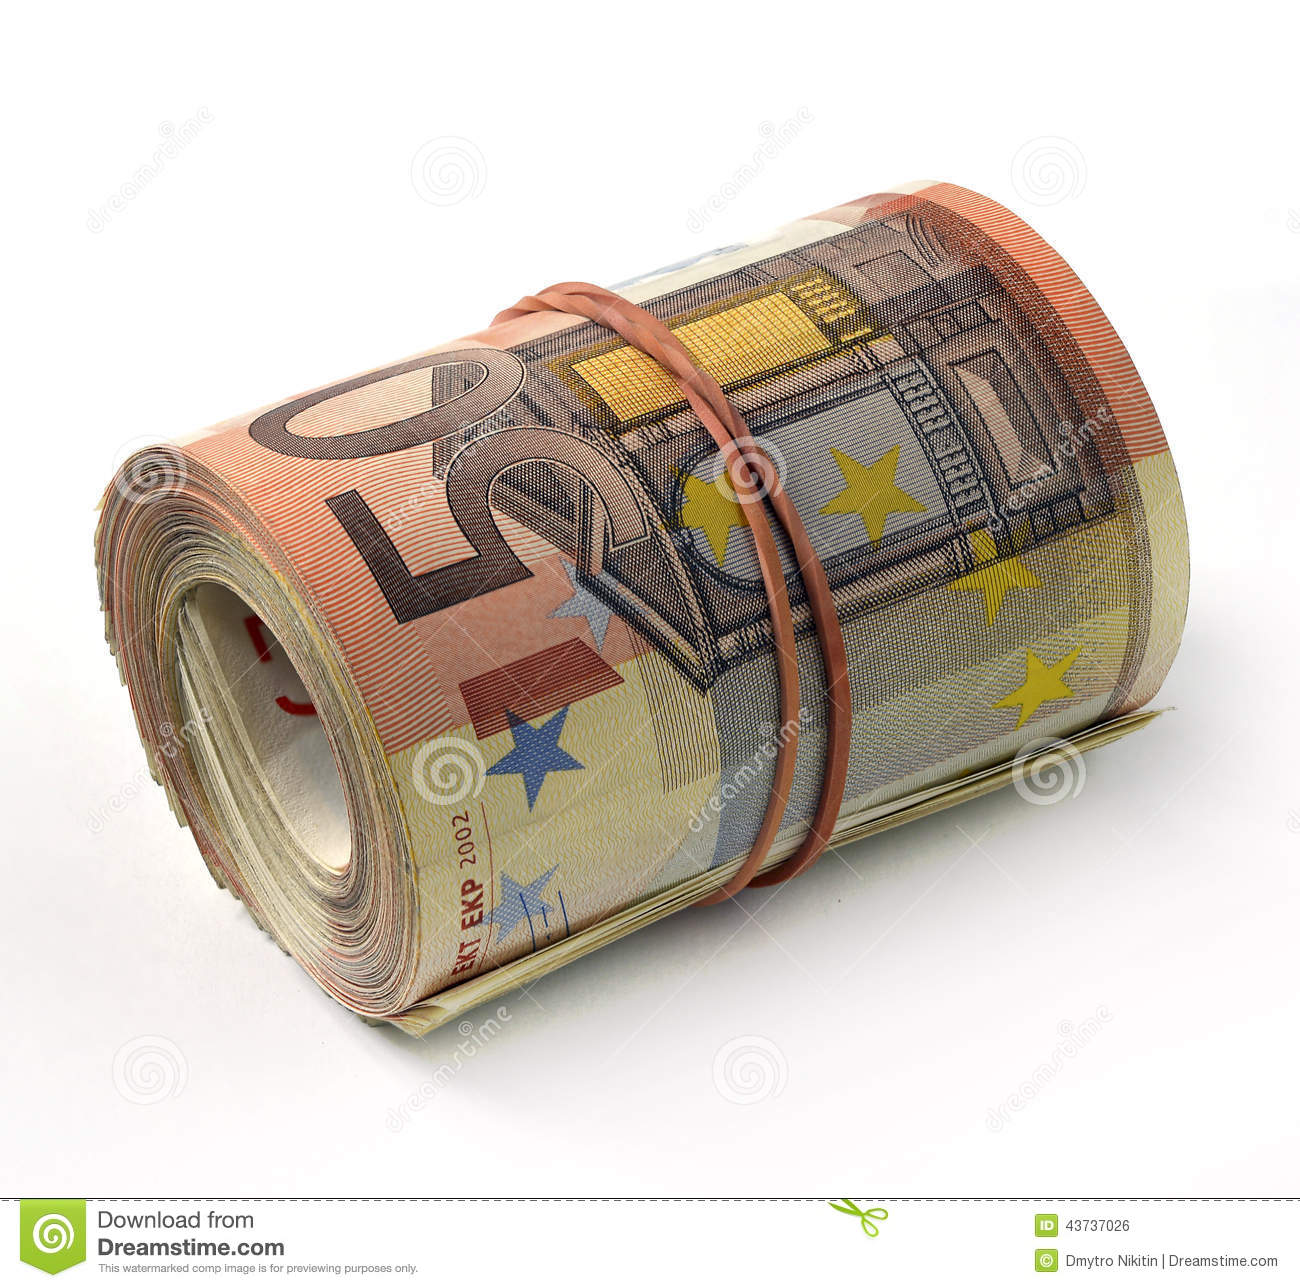billete: (96, 171, 1202, 1049)
